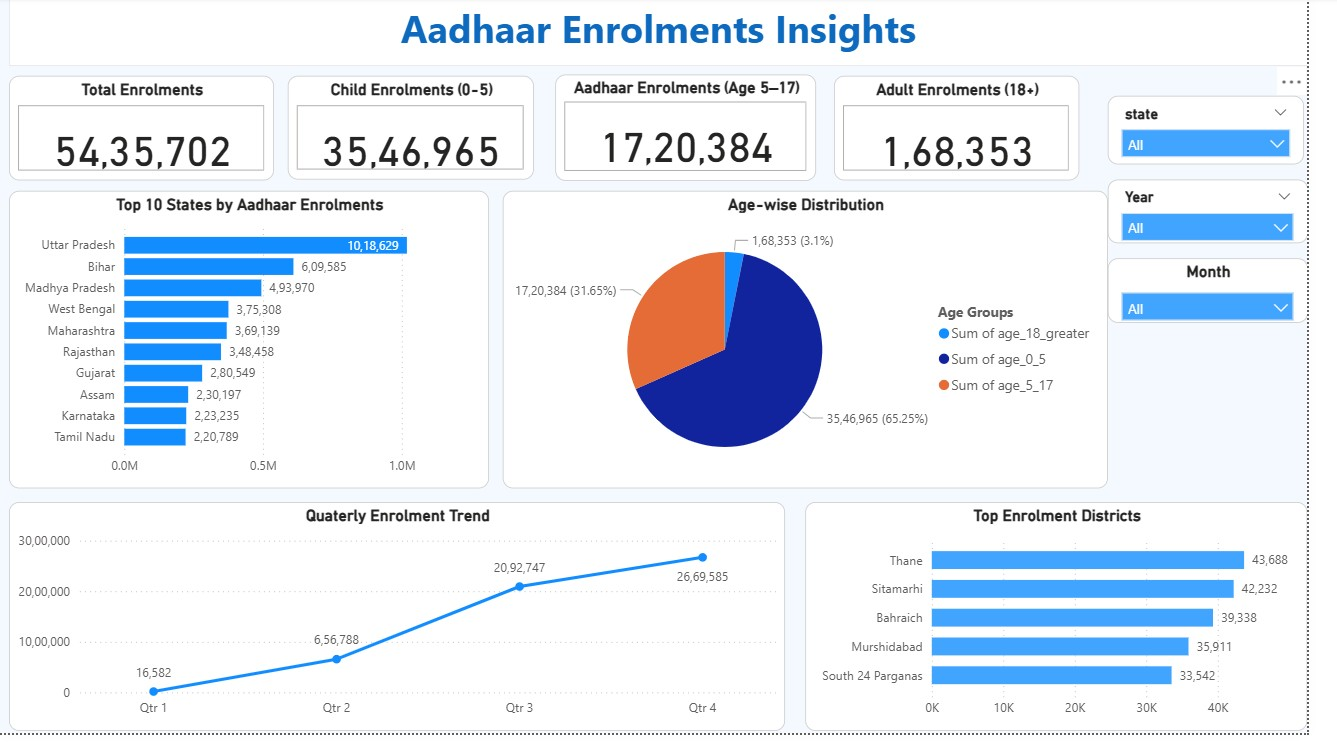

The dashboard page shown, as its layout file describes it:
{"tool":"powerbi","page":{"name":"Page 1","canvas":[1280,720],"ordinal":0},"visuals":[{"type":"textbox","box":[9.8,0,1270.5,67.3],"z":0},{"type":"cardVisual","title":"Total Enrolments","fields":{"Data":["Sum(Aadhar.Total Enrolment)"]},"box":[9.8,77,259.2,102.7],"z":1000},{"type":"cardVisual","title":"Adult Enrolments (18+)","fields":{"Data":["Sum(Aadhar.age_18_greater)"]},"box":[816.9,77,239.7,102.7],"z":2000},{"type":"cardVisual","title":"Child Enrolments (0-5)","fields":{"Data":["Sum(Aadhar.age_0_5)"]},"box":[282.5,77,240.9,101.5],"z":3000},{"type":"clusteredBarChart","title":"Top 10 States by Aadhaar Enrolments","fields":{"Category":["aadhaar_enrolment_final.state"],"Y":["Sum(Aadhar.Total Enrolment)"]},"box":[9.8,189.5,469.6,291],"z":4000},{"type":"pieChart","title":"Age-wise Distribution","fields":{"Y":["Sum(Aadhar.age_18_greater)","Sum(Aadhar.age_0_5)","Sum(Aadhar.age_5_17)"]},"box":[492.8,189.5,591.9,291],"z":6000},{"type":"lineChart","title":"Quaterly Enrolment Trend","fields":{"Y":["Sum(Aadhar.Total Enrolment)"],"Category":["Aadhar.date.Variation.Date Hierarchy.Quarter"]},"box":[9.8,494,759.4,223.8],"z":7000},{"type":"slicer","fields":{"Values":["Aadhar.date.Variation.Date Hierarchy.Year"]},"box":[1084.7,178.5,195.7,62.4],"z":8000},{"type":"slicer","fields":{"Values":["Aadhar.state"]},"box":[1084.7,96.6,192,67.3],"z":10000},{"type":"slicer","title":"Month","fields":{"Values":["Aadhar.date.Variation.Date Hierarchy.Month"]},"box":[1084.7,255.6,195.7,63.6],"z":11000},{"type":"cardVisual","title":"Aadhaar Enrolments (Age 5–17)","fields":{"Data":["Sum(Aadhar.age_5_17)"]},"box":[544.2,75.8,255.6,102.7],"z":13000},{"type":"clusteredBarChart","title":"Top Enrolment Districts","fields":{"Y":["Sum(Aadhar.Total Enrolment)"],"Category":["Aadhar.district"]},"box":[788.7,494,491.6,223.8],"z":14000}]}

Visuals, with their boxes in screenshot pixels (x1, y1, x2, y2), scaled from the page's 1280x720 canvas onto the 1337x742 screenshot:
textbox: left=10, top=0, right=1336, bottom=69
"Total Enrolments" cardVisual: left=10, top=79, right=281, bottom=185
"Adult Enrolments (18+)" cardVisual: left=853, top=79, right=1104, bottom=185
"Child Enrolments (0-5)" cardVisual: left=295, top=79, right=547, bottom=184
"Top 10 States by Aadhaar Enrolments" clusteredBarChart: left=10, top=195, right=501, bottom=495
"Age-wise Distribution" pieChart: left=515, top=195, right=1133, bottom=495
"Quaterly Enrolment Trend" lineChart: left=10, top=509, right=803, bottom=740
slicer - Aadhar.date.Variation.Date Hierarchy.Year: left=1133, top=184, right=1336, bottom=248
slicer - Aadhar.state: left=1133, top=100, right=1334, bottom=169
"Month" slicer: left=1133, top=263, right=1336, bottom=329
"Aadhaar Enrolments (Age 5–17)" cardVisual: left=568, top=78, right=835, bottom=184
"Top Enrolment Districts" clusteredBarChart: left=824, top=509, right=1336, bottom=740
